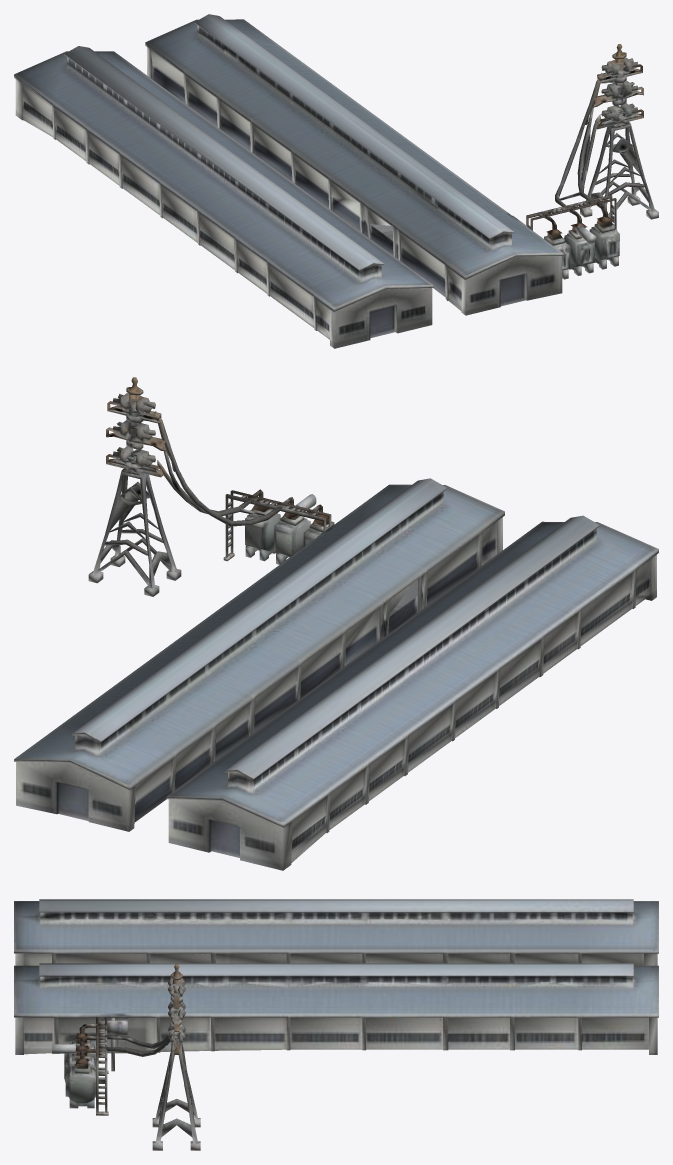
File: alu.glb
3 renders of one model, top to bottom at view 1: azimuth 30°, elevation 25°; view 2: azimuth 150°, elevation 25°; view 3: azimuth 270°, elevation 25°, orthographic. The views are drawn at different scales.
Parts seen in each view (by area): view 1: alu; view 2: alu; view 3: alu.
Boxes of the visible parts, x1,y1,x2,y2 form: alu: (14, 14, 658, 348); alu: (14, 377, 658, 870); alu: (14, 899, 658, 1150).
Size of the model in its own units: 0.7104 by 0.2954 by 1.
1 material, 1 textured.
